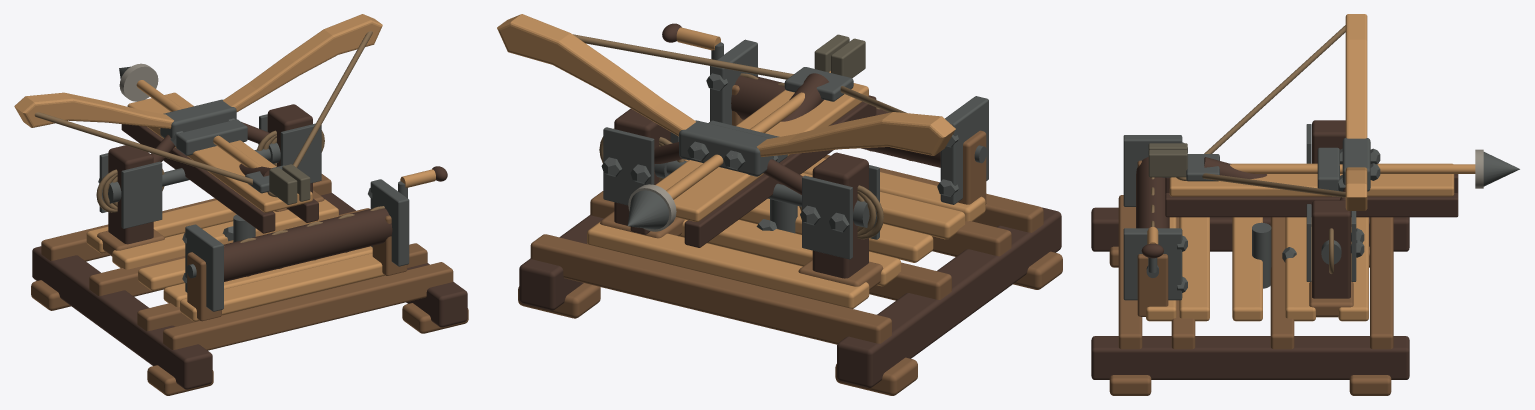
Rendered from extra_ballista.glb.
The picture shows the model from 3 angles, left to right: view 1: azimuth 30°, elevation 25°; view 2: azimuth 150°, elevation 25°; view 3: azimuth 270°, elevation 25°; orthographic projection. The views are drawn at different scales.
Parts seen in each view (by area): view 1: wood, metal, stone, cloth; view 2: wood, metal, stone, cloth; view 3: wood, metal, stone.
Part boxes in pixels (x1,y1,x2,y2): wood: (14, 14, 468, 395); metal: (32, 118, 467, 389); stone: (99, 63, 321, 242); cloth: (96, 130, 324, 212); wood: (497, 14, 1062, 395); metal: (519, 23, 1061, 387); stone: (603, 67, 879, 259); cloth: (599, 128, 883, 239); wood: (1109, 14, 1475, 395); metal: (1091, 135, 1458, 379); stone: (1163, 124, 1519, 288).
Size of the model in its own units: 2.8 by 1.6 by 2.8.
